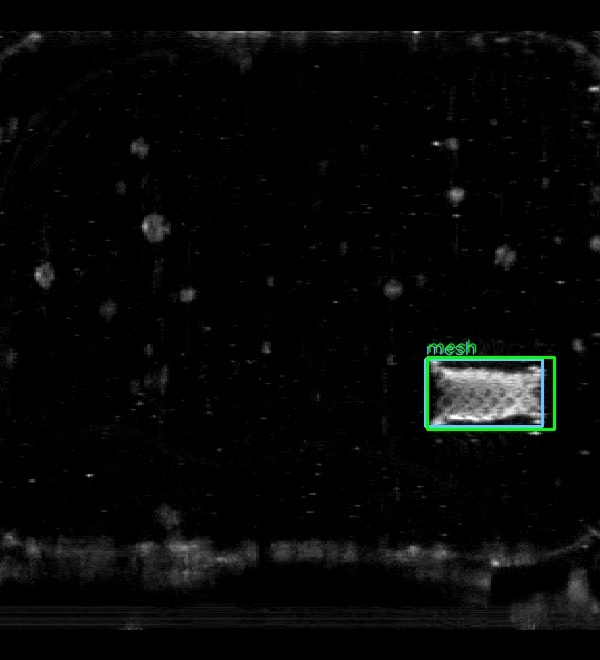mesh: (425, 359, 542, 426)
